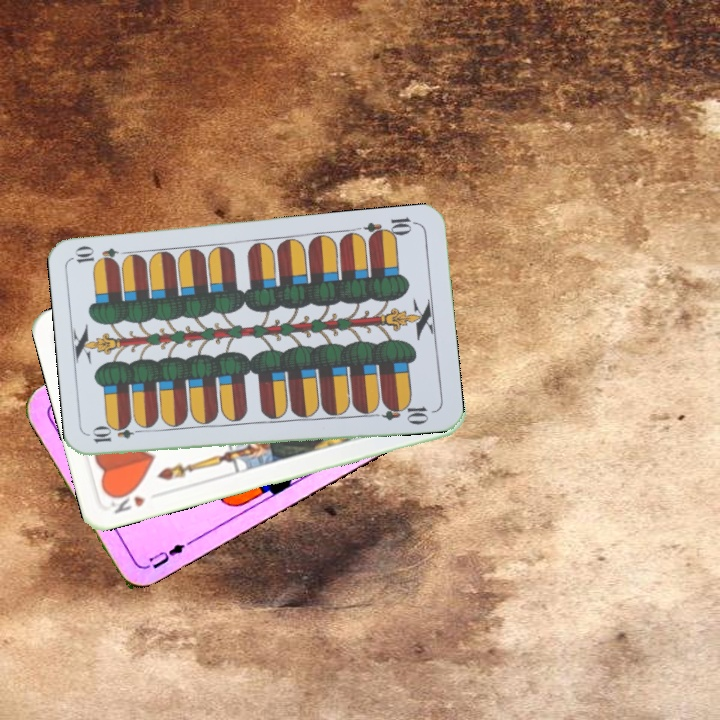E10: (361, 213, 420, 243), (88, 423, 148, 445)
EU: (144, 537, 194, 572)
HK: (105, 485, 148, 517)
